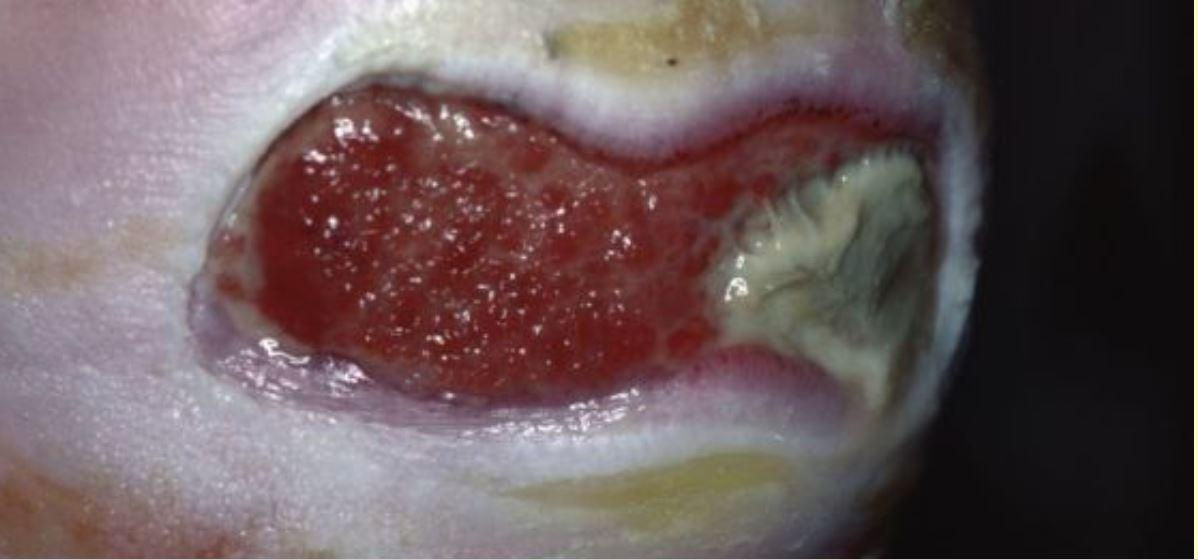Stage3: (146, 29, 989, 462)
